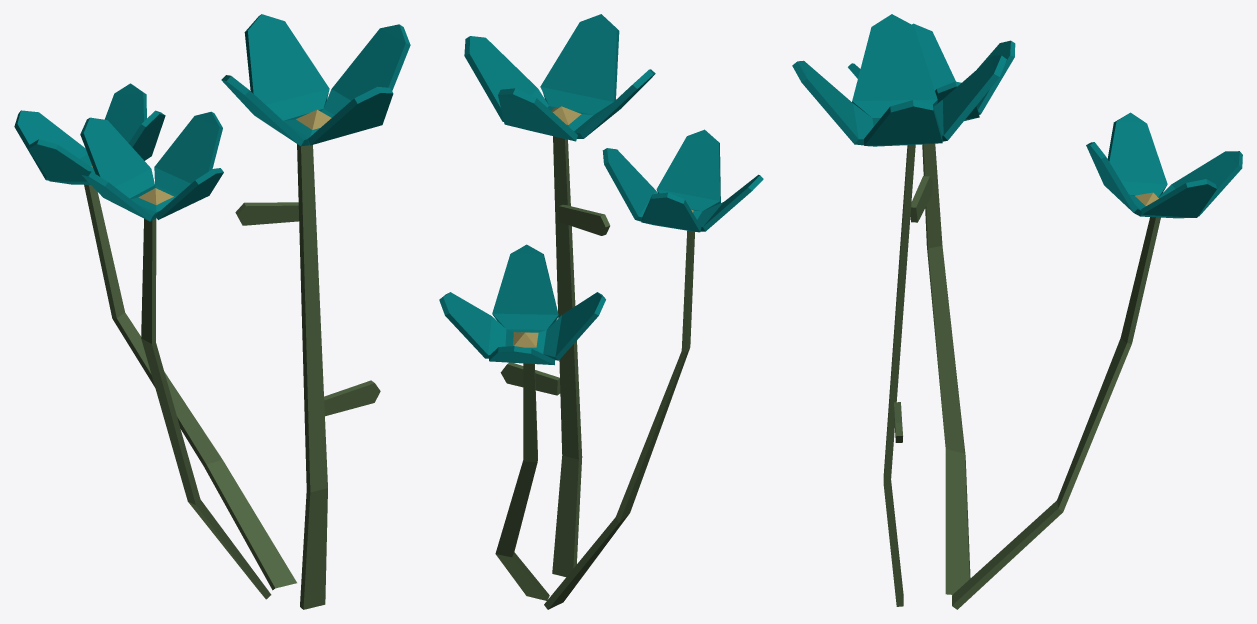
The model's file is Flowers.glb.
The picture shows the model from 3 angles, left to right: view 1: azimuth 30°, elevation 25°; view 2: azimuth 150°, elevation 25°; view 3: azimuth 270°, elevation 25°; orthographic projection. The views are drawn at different scales.
Parts seen in each view (by area): view 1: Cyan, Green, Yellow; view 2: Cyan, Green, Yellow; view 3: Cyan, Green.
Part boxes in pixels (bbox=[...]): Cyan: bbox=[14, 14, 410, 221]; Green: bbox=[84, 144, 380, 609]; Yellow: bbox=[91, 109, 331, 205]; Cyan: bbox=[439, 14, 763, 365]; Green: bbox=[495, 136, 694, 609]; Yellow: bbox=[513, 106, 693, 347]; Cyan: bbox=[792, 14, 1242, 218]; Green: bbox=[883, 143, 1160, 609].
Size of the model in its own units: 0.4895 by 0.8289 by 0.6137.
